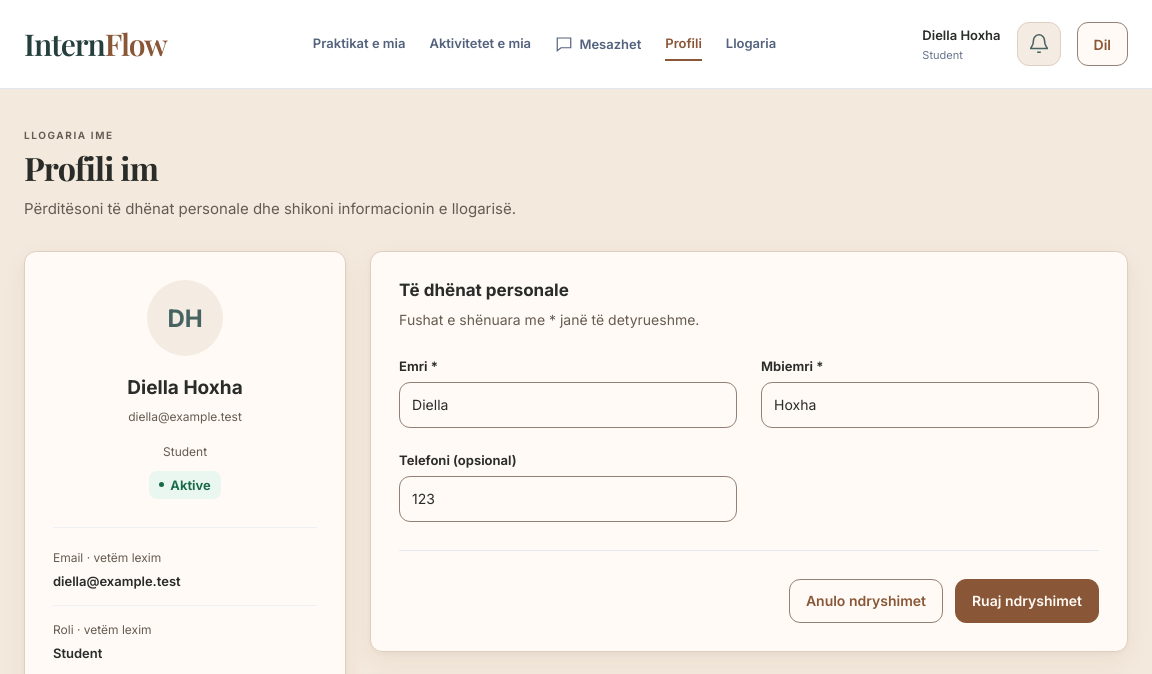
Test case: self-service profile › displays backend validation errors and keeps the draft for correction
The width and height of the screenshot is (1152, 674).
Replace the text in the field labelled "Emri *" with "Rejected": [568, 405] box [399, 382, 737, 428]
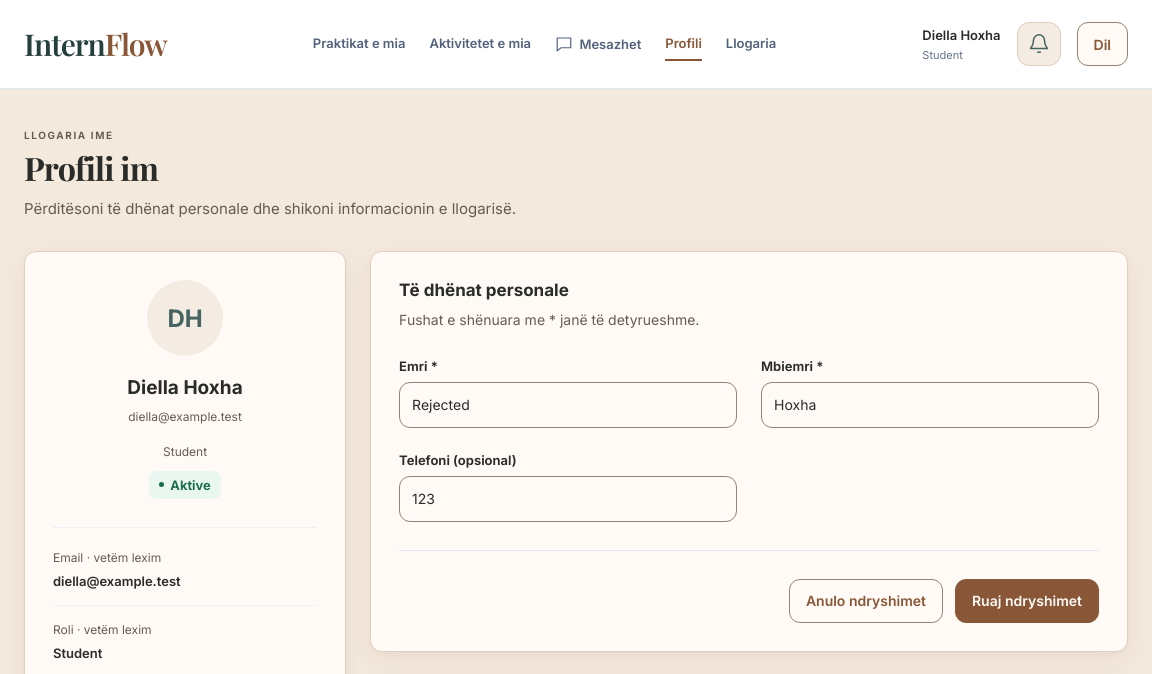
Click the button "Ruaj ndryshimet": [1027, 601] box [955, 579, 1099, 623]
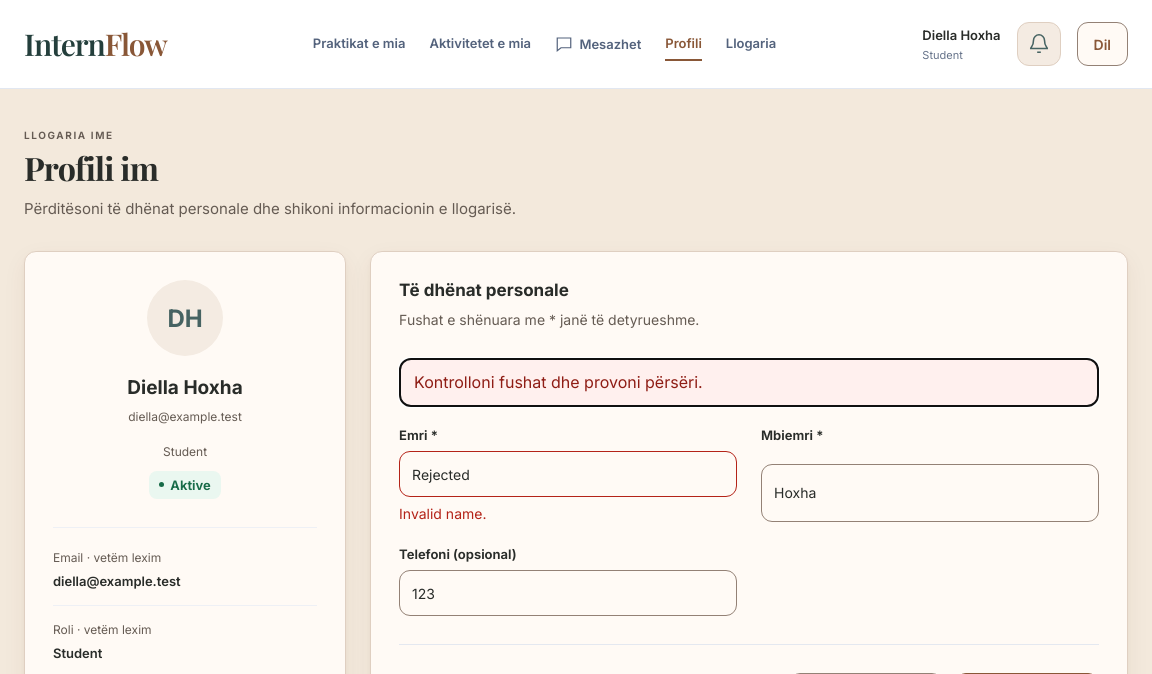
expect the text "Invalid name." is shown: met, box [399, 505, 486, 522]
